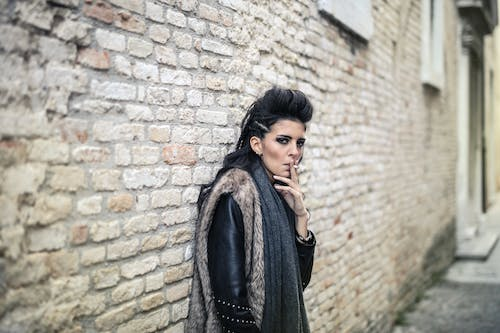cigarette: (292, 163, 301, 170)
